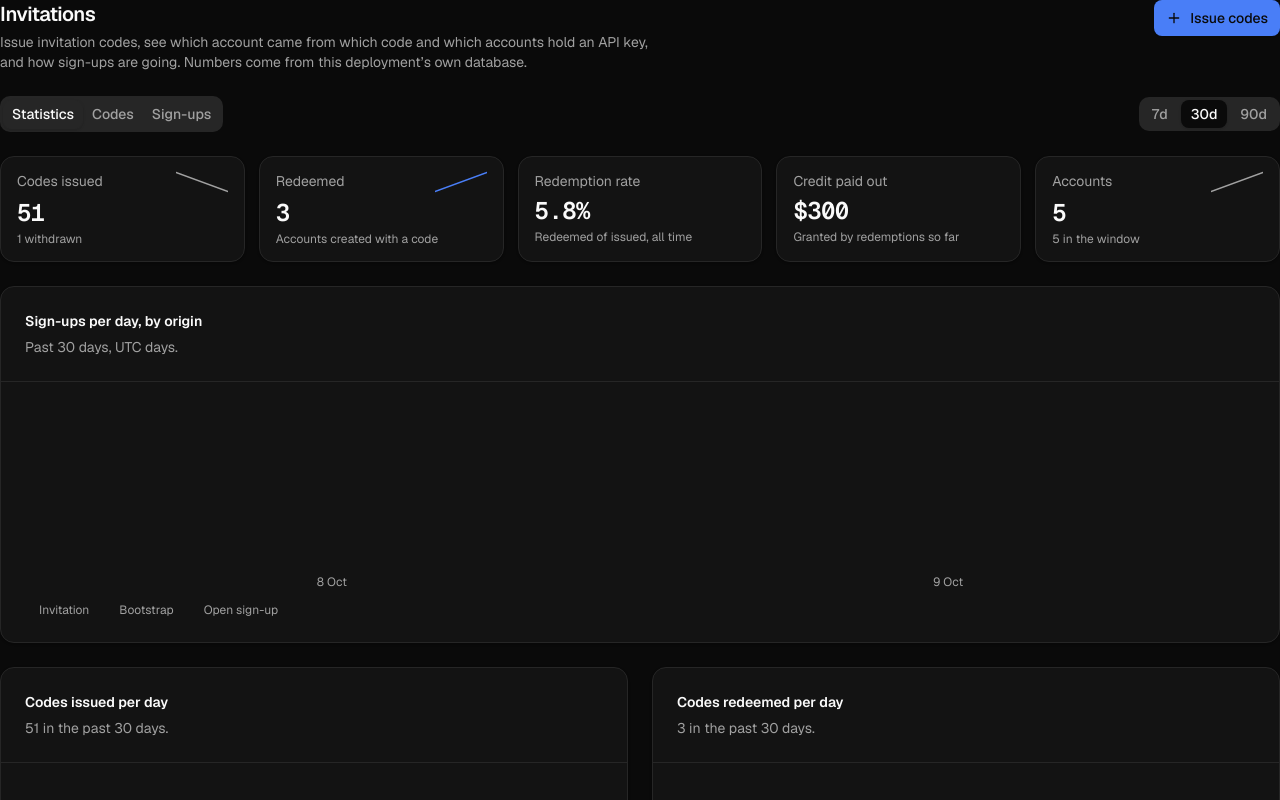
InvitationsScreen › lists accounts with how each came to exist
The image size is (1280, 800).
Click the tab "Sign-ups": x=182, y=114 left=143, top=100, right=220, bottom=128
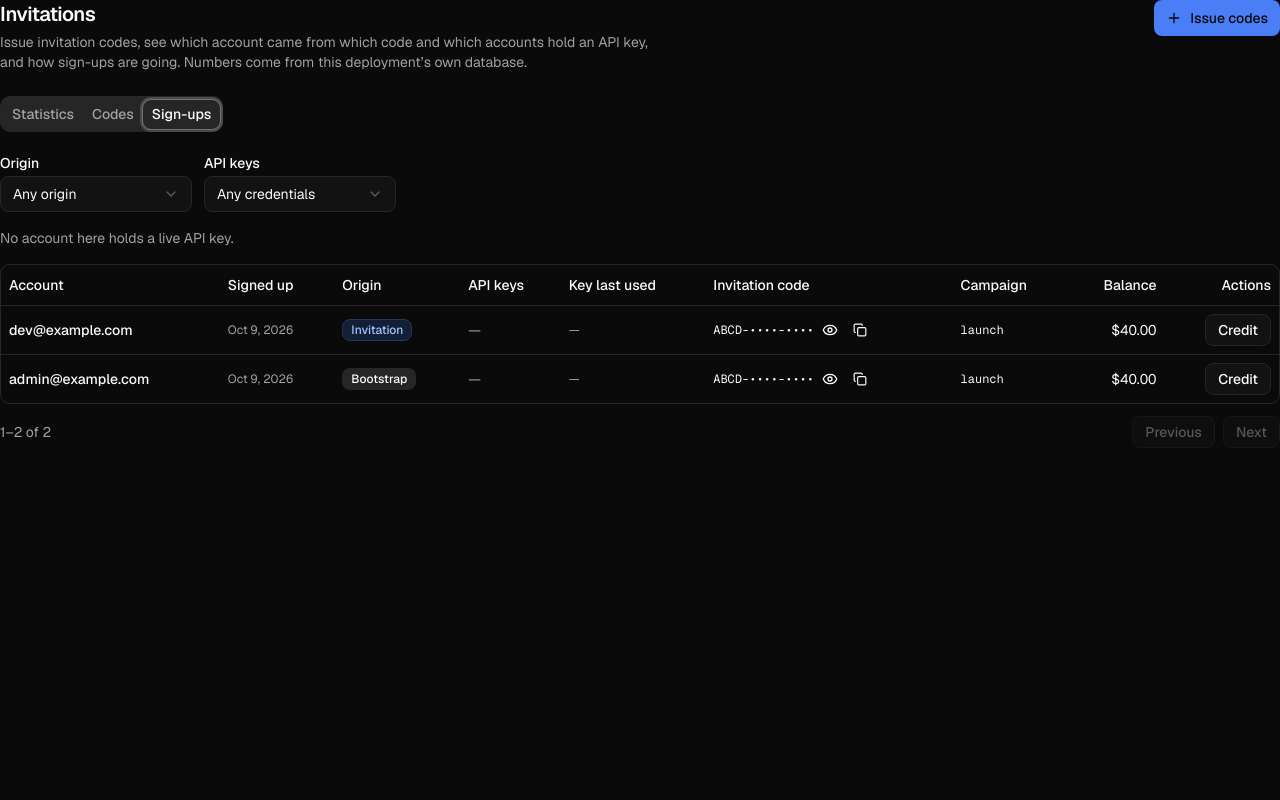
Expected: the row "dev@example.com" shows "Invitation", left=351, top=322, right=403, bottom=338
Expected: the row "dev@example.com" shows "ABCD-••••-••••", left=713, top=322, right=814, bottom=338
Expected: the row "admin@example.com" shows "Bootstrap", left=351, top=370, right=407, bottom=386
